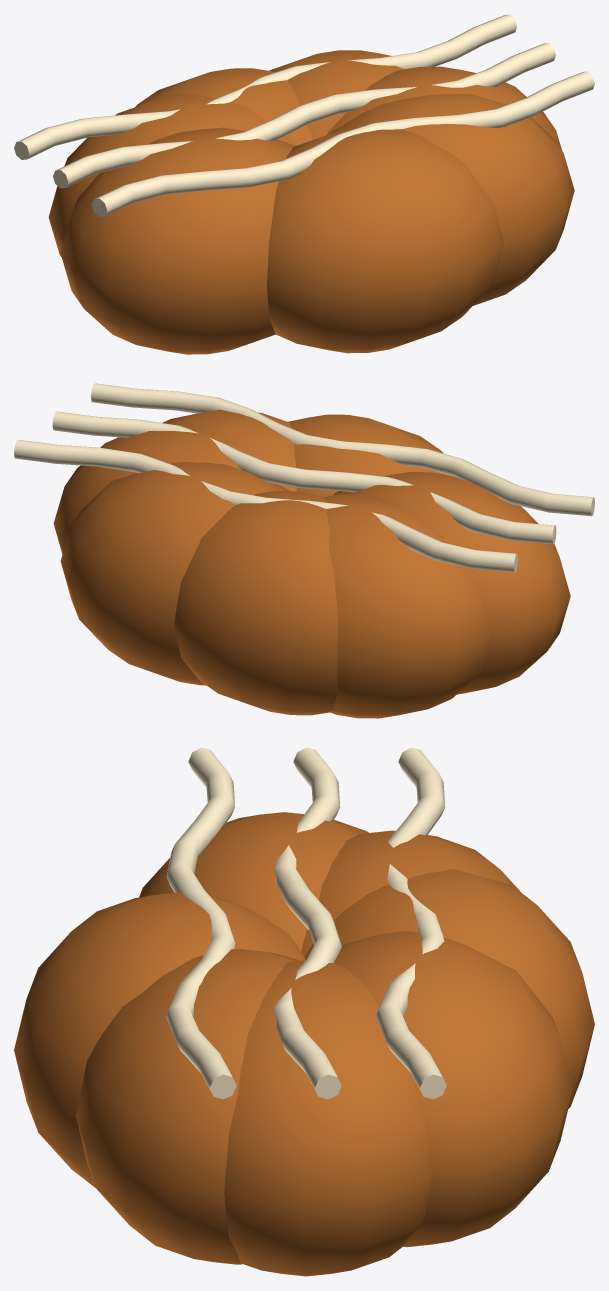
The model's file is apple-fritter.glb.
3 views of the same model, one above another, from view 1: azimuth 30°, elevation 25°; view 2: azimuth 150°, elevation 25°; view 3: azimuth 270°, elevation 25° (orthographic). The views are drawn at different scales.
Visible parts, largest first — view 1: edible_fritter.002, edible_fritter.004, edible_fritter.005, edible_glaze, edible_glaze.001, edible_fritter.001, edible_glaze.002, edible_fritter.003, edible_fritter.006, edible_fritter; view 2: edible_fritter.006, edible_fritter.001, edible_fritter.003, edible_fritter.004, edible_glaze, edible_glaze.001, edible_glaze.002, edible_fritter, edible_fritter.002, edible_fritter.005; view 3: edible_fritter, edible_fritter.003, edible_fritter.005, edible_fritter.002, edible_fritter.006, edible_fritter.004, edible_glaze, edible_glaze.001, edible_glaze.002, edible_fritter.001.
Part boxes in pixels (x1,y1,x2,y2): edible_fritter.002: (267, 127, 503, 353); edible_fritter.004: (60, 127, 294, 354); edible_fritter.005: (329, 93, 574, 305); edible_glaze: (92, 71, 594, 216); edible_glaze.001: (53, 43, 555, 188); edible_fritter.001: (48, 93, 296, 257); edible_glaze.002: (14, 14, 516, 159); edible_fritter.003: (269, 50, 404, 140); edible_fritter.006: (135, 68, 312, 145); edible_fritter: (327, 66, 561, 149); edible_fritter.006: (174, 491, 338, 715); edible_fritter.001: (323, 494, 491, 718); edible_fritter.003: (60, 462, 289, 685); edible_fritter.004: (333, 472, 570, 694); edible_glaze: (91, 383, 594, 516); edible_glaze.001: (52, 411, 556, 544); edible_glaze.002: (14, 440, 517, 572); edible_fritter: (53, 423, 291, 554); edible_fritter.002: (288, 414, 446, 496); edible_fritter.005: (162, 409, 296, 491); edible_fritter: (224, 960, 431, 1276); edible_fritter.003: (334, 931, 572, 1247); edible_fritter.005: (76, 948, 300, 1264); edible_fritter.002: (14, 892, 305, 1188); edible_fritter.006: (304, 869, 594, 1108); edible_fritter.004: (139, 812, 368, 950); edible_glaze: (165, 747, 236, 1099); edible_glaze.001: (274, 747, 341, 1099); edible_glaze.002: (375, 747, 446, 1099); edible_fritter.001: (301, 830, 520, 956).
Size of the model in its own units: 0.1414 by 0.054 by 0.1051.
